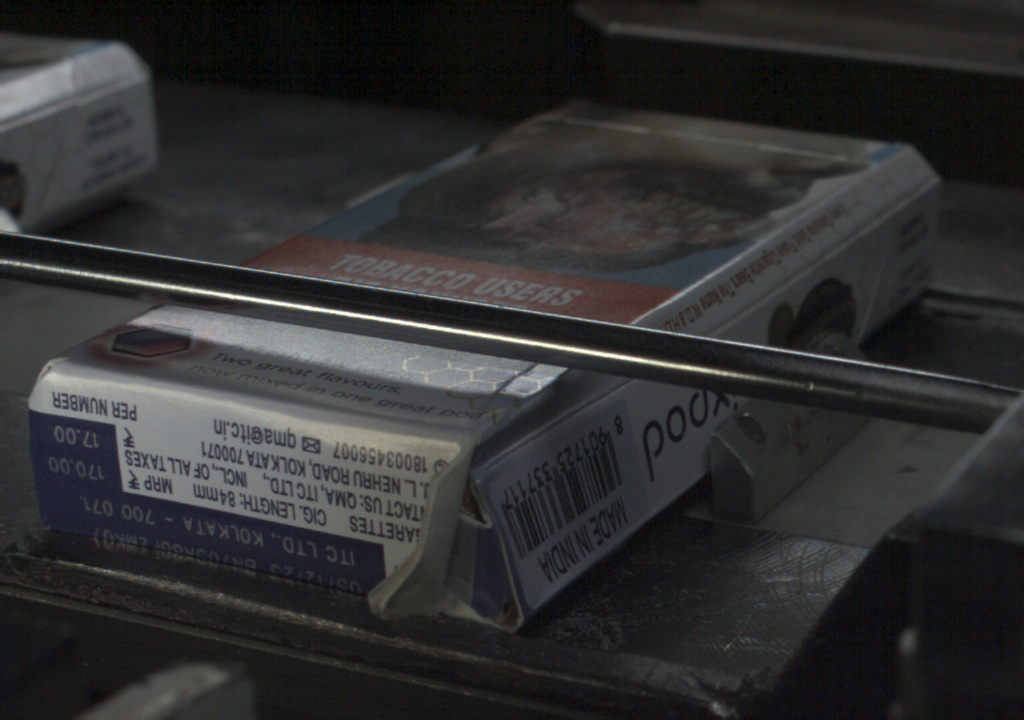g_label: (39, 490, 385, 608)
g_lmiter: (707, 263, 806, 332), (808, 209, 890, 262)
g_miter: (894, 174, 937, 208)
ng_bottom: (380, 442, 536, 632)
price: (36, 417, 121, 488)
